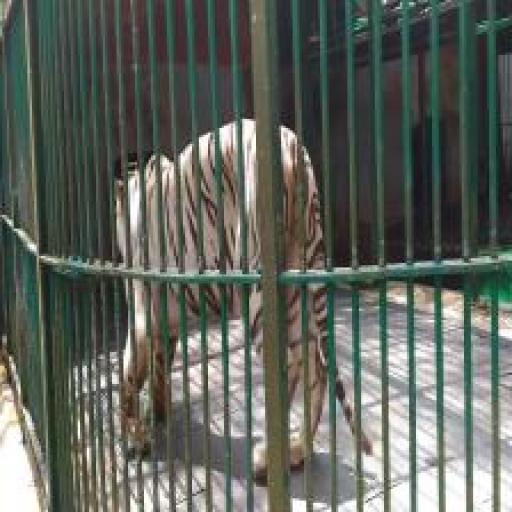Tiger: (219, 123, 241, 270), (308, 284, 328, 436), (199, 132, 219, 270), (242, 119, 260, 269), (281, 126, 299, 268), (179, 144, 197, 270), (304, 149, 323, 268), (151, 283, 166, 418), (161, 156, 178, 268), (286, 284, 302, 401), (145, 156, 159, 268), (135, 281, 148, 388), (129, 174, 143, 267), (124, 332, 135, 445), (167, 284, 180, 362), (337, 370, 353, 429), (115, 180, 126, 262), (250, 286, 262, 358), (290, 423, 305, 466), (205, 284, 220, 320), (227, 284, 241, 318), (187, 284, 199, 322), (254, 443, 267, 472), (141, 425, 150, 450)
